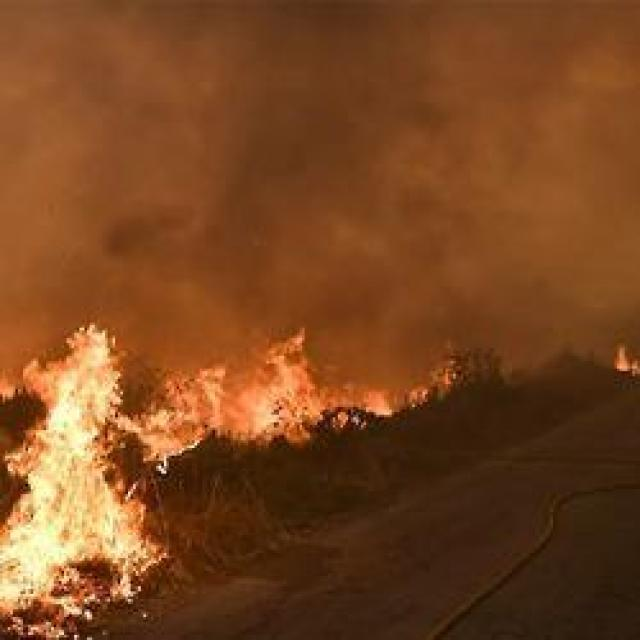Fire: (0, 344, 149, 614), (154, 350, 402, 450), (398, 354, 471, 418), (600, 342, 640, 378)
Smoke: (0, 0, 640, 344)
